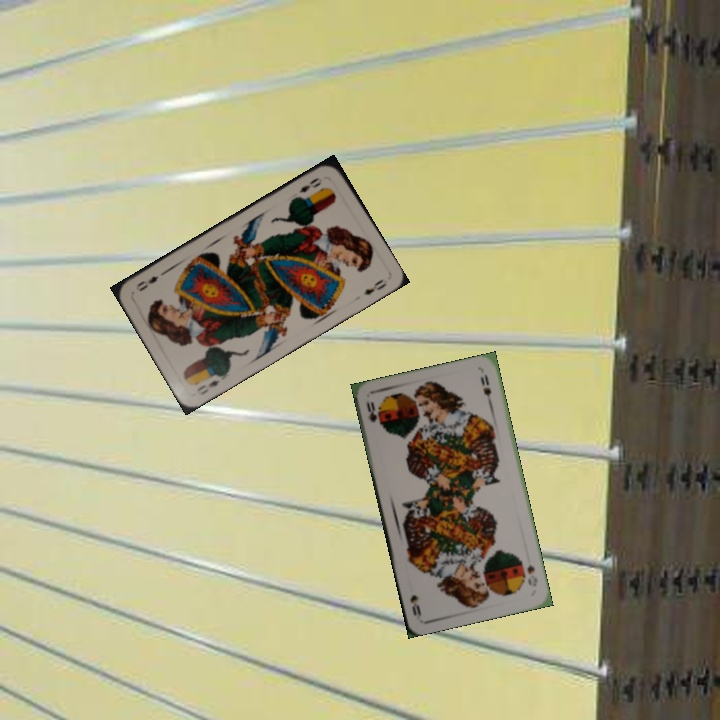EO: (295, 173, 325, 196), (193, 375, 222, 398)
SO: (362, 396, 384, 430), (523, 561, 540, 589)
